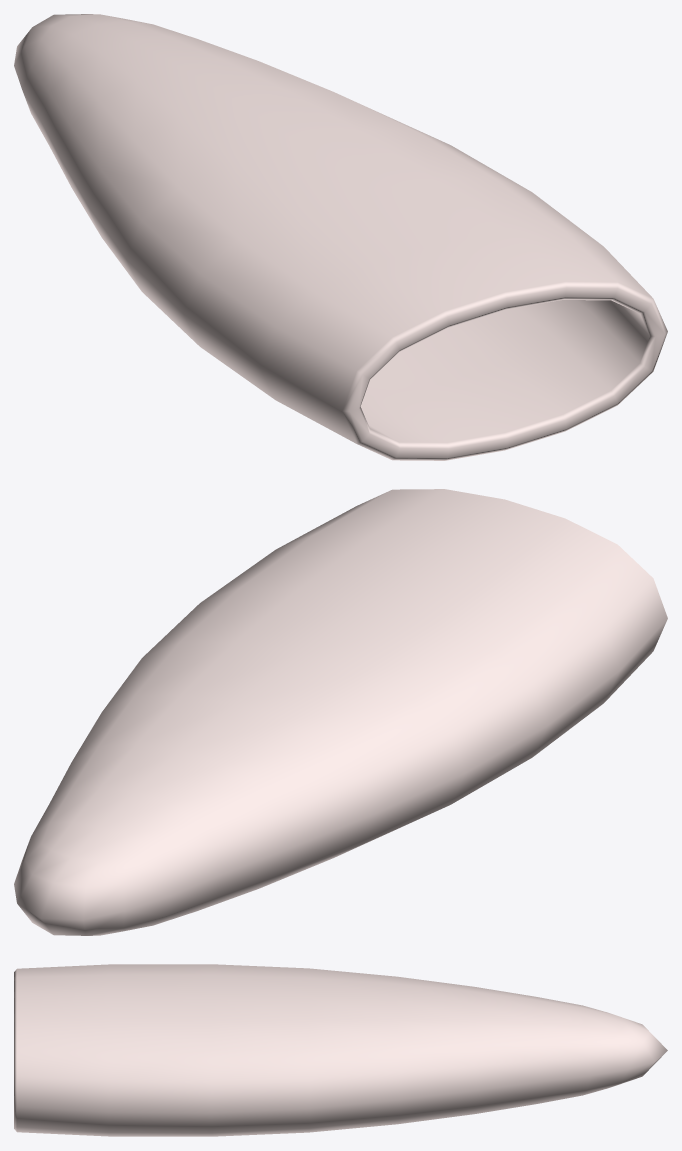
File: Squid_2_Fillet_1.fbx
The picture shows the model from 3 angles, top to bottom: view 1: azimuth 30°, elevation 25°; view 2: azimuth 150°, elevation 25°; view 3: azimuth 270°, elevation 25°; orthographic projection. The views are drawn at different scales.
Parts seen in each view (by area): view 1: Squid_2_Fillet_1; view 2: Squid_2_Fillet_1; view 3: Squid_2_Fillet_1.
Part boxes in pixels (x1,y1,x2,y2): Squid_2_Fillet_1: (14,14,667,460); Squid_2_Fillet_1: (14,489,667,935); Squid_2_Fillet_1: (14,964,667,1136).
Bounding box in the file's own units: 12.91 × 5.35 × 28.55.
